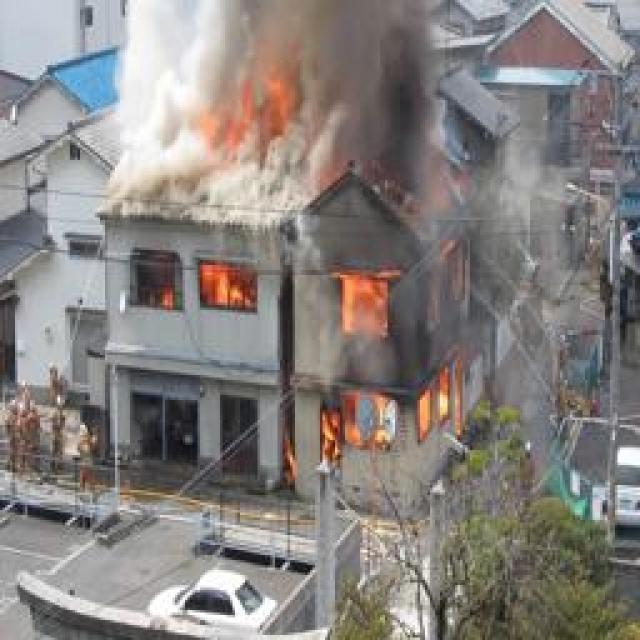Fire: (316, 203, 463, 483), (197, 41, 303, 155), (137, 269, 252, 322)
